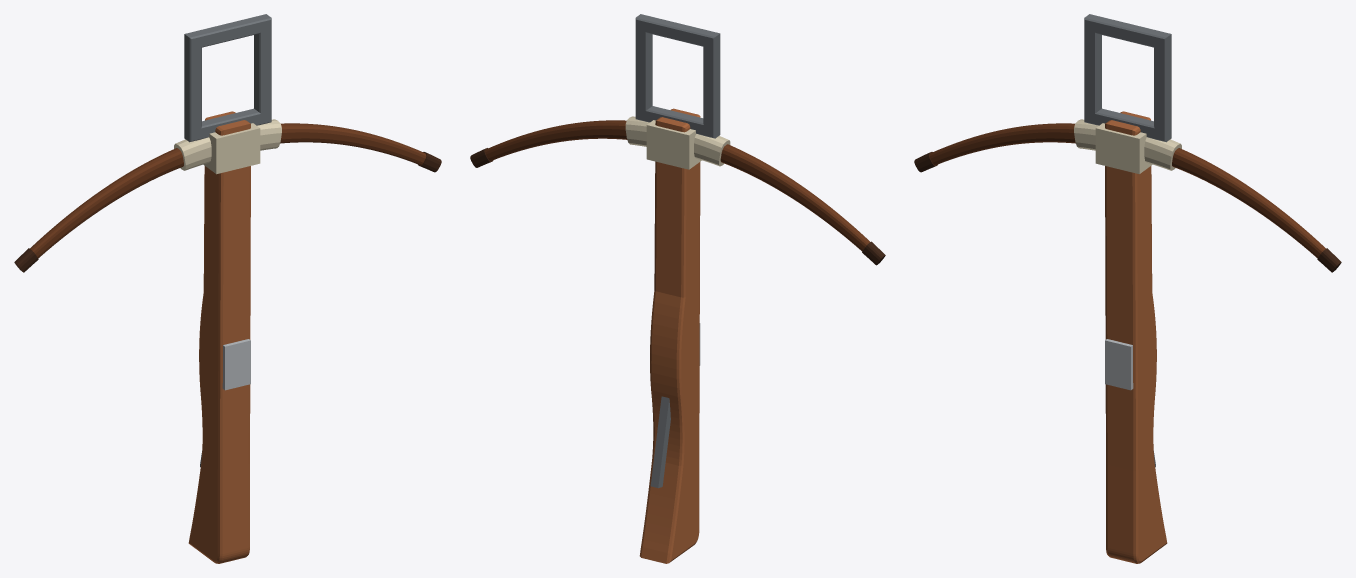
Rendered from Crossbow.ready.glb.
3 views of the same model, side by side, from view 1: azimuth 30°, elevation 25°; view 2: azimuth 150°, elevation 25°; view 3: azimuth 330°, elevation 25° (orthographic). The views are drawn at different scales.
Parts seen in each view (by area): view 1: Crossbow; view 2: Crossbow; view 3: Crossbow.
Part boxes in pixels (left/top/right/bottom): Crossbow: left=14, top=14, right=441, bottom=563; Crossbow: left=470, top=14, right=885, bottom=563; Crossbow: left=914, top=14, right=1341, bottom=563.
Size of the model in its own units: 4.27 by 5.12 by 0.6143.
1 material, 1 textured.
